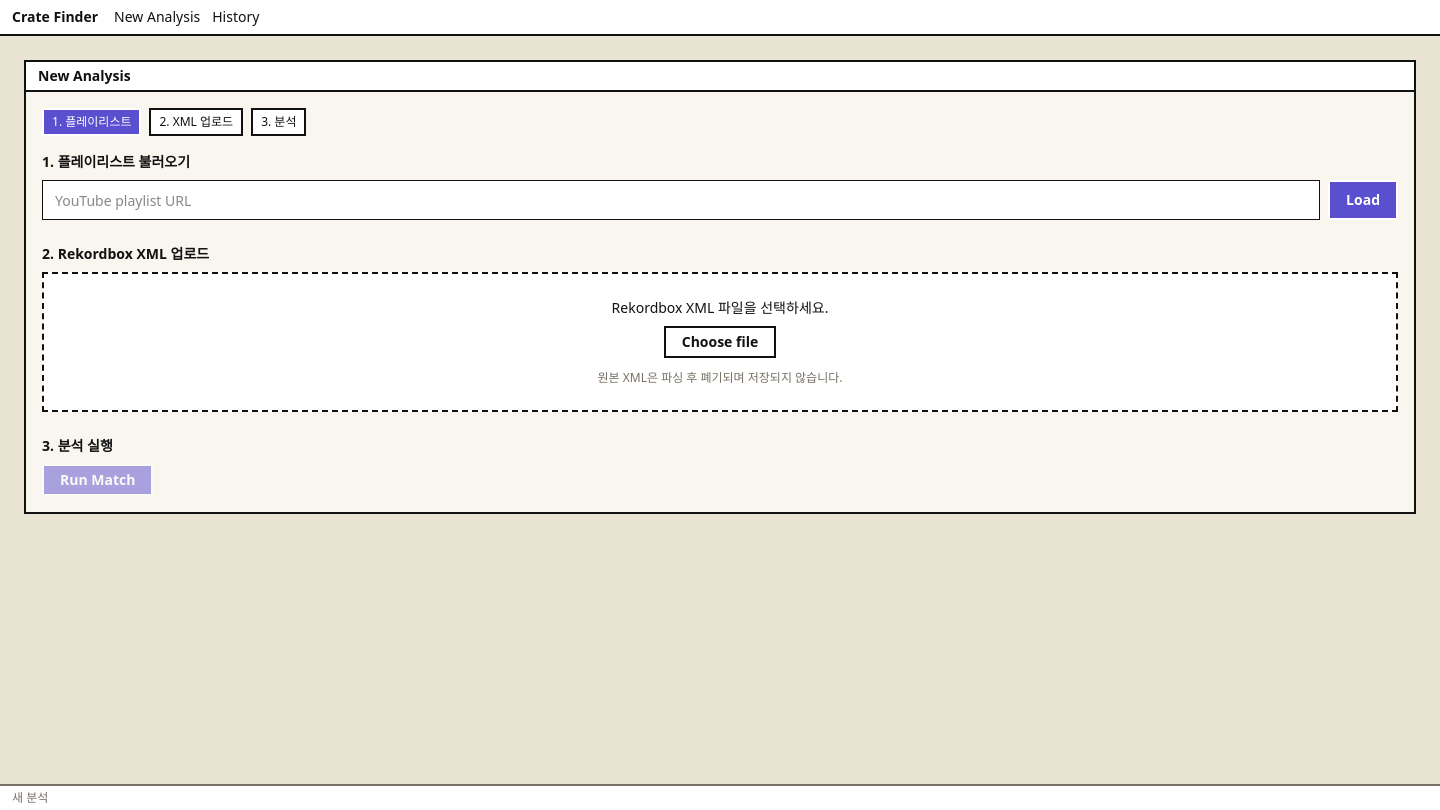
Scenario: AnalysisFlow › 플레이리스트 로드 실패 시 code 기반 ErrorNotice 가이드를 표시한다
Type "https://www.youtube.com/playlist?list=PLx" into the field with placeholder "YouTube playlist URL" at (681, 200), box [42, 180, 1320, 220]
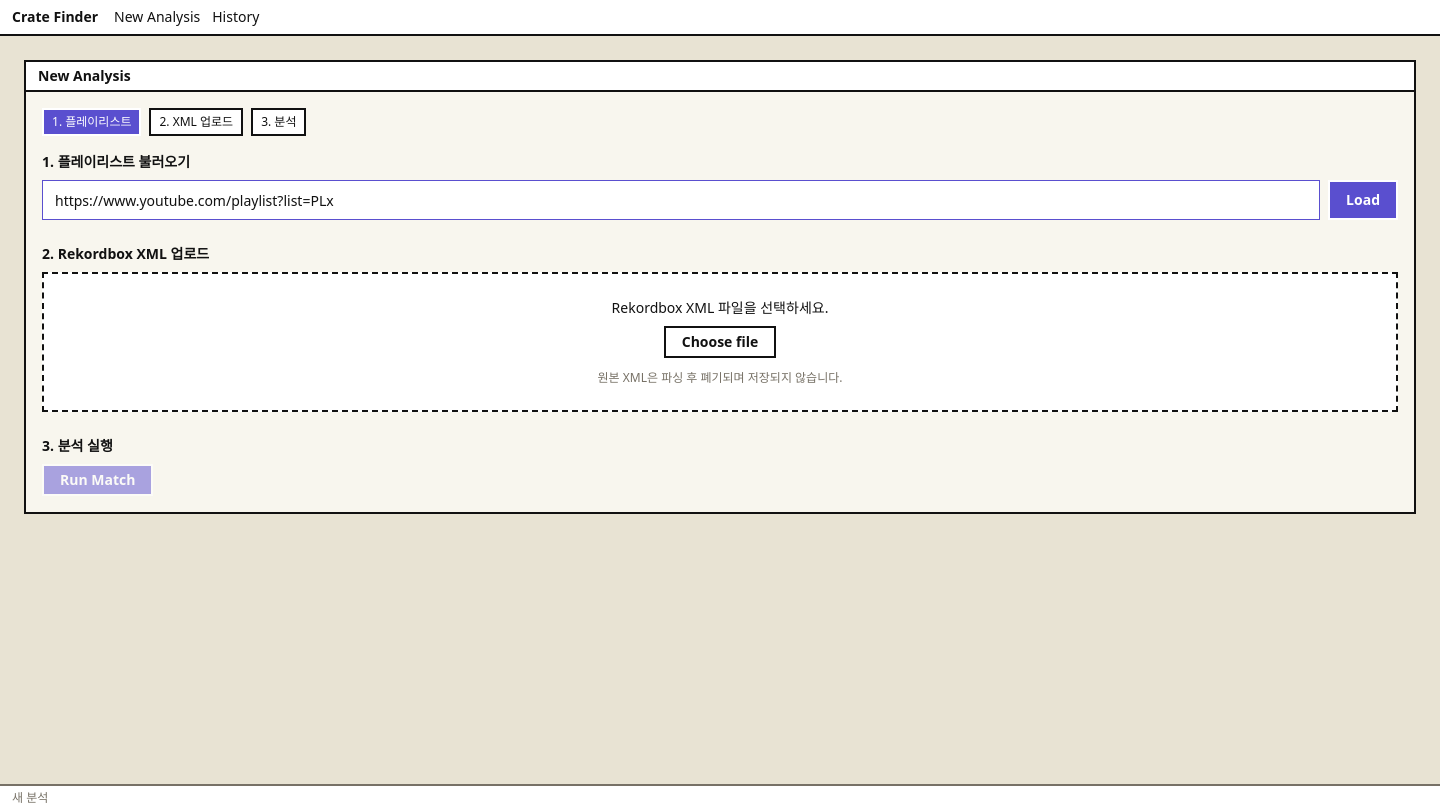
Click the button "Load" at (1363, 200), box [1328, 180, 1398, 220]
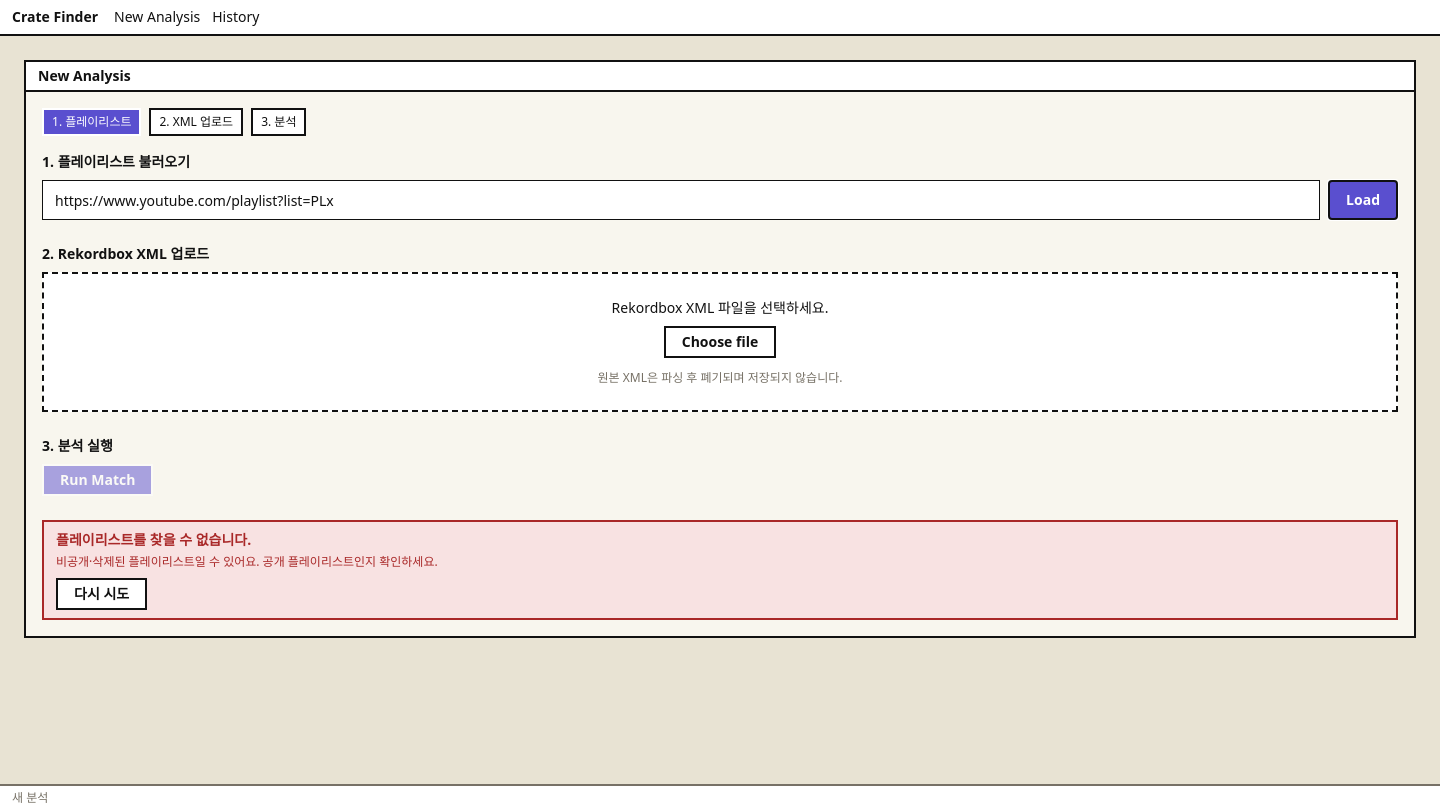
Check: the message shows "플레이리스트를 찾을 수 없습니다.", box [56, 530, 251, 549]
Check: the text "비공개·삭제된 플레이리스트일 수 있어요. 공개 플레이리스트인지 확인하세요." is shown, box [56, 553, 438, 570]
